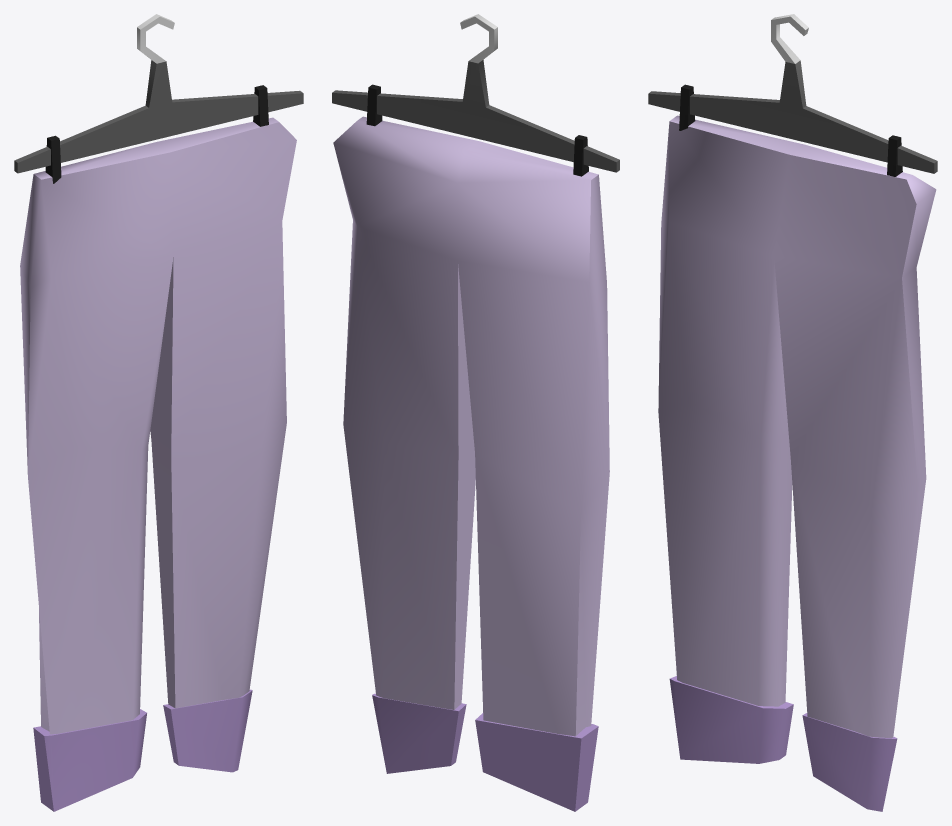
The model's file is clothes_021.glb.
3 views of the same model, side by side, from view 1: azimuth 30°, elevation 25°; view 2: azimuth 150°, elevation 25°; view 3: azimuth 330°, elevation 25° (orthographic).
Visible parts, largest first — view 1: clothes_021; view 2: clothes_021; view 3: clothes_021.
Boxes of the visible parts, bbox=[...] form: clothes_021: bbox=[14, 14, 303, 811]; clothes_021: bbox=[332, 14, 619, 811]; clothes_021: bbox=[648, 14, 937, 811].
Size of the model in its own units: 0.3759 by 0.9794 by 0.0912.
1 material, 1 textured.
